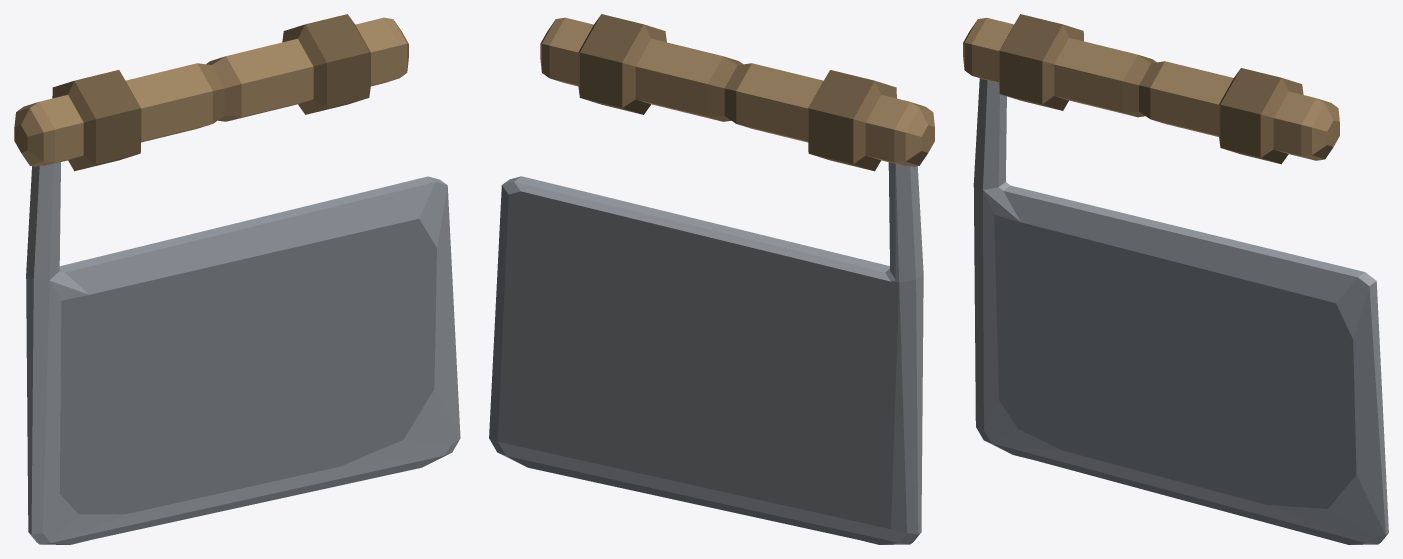
The model's file is WF_LP_HT_Props_Chopper.003.fbx.
3 views of the same model, side by side, from view 1: azimuth 30°, elevation 25°; view 2: azimuth 150°, elevation 25°; view 3: azimuth 330°, elevation 25° (orthographic). The views are drawn at different scales.
Visible parts, largest first — view 1: WF_LP_HT_Props_Chopper.003; view 2: WF_LP_HT_Props_Chopper.003; view 3: WF_LP_HT_Props_Chopper.003.
Boxes of the visible parts, x1=… form: WF_LP_HT_Props_Chopper.003: x1=14, y1=14, x2=460, y2=544; WF_LP_HT_Props_Chopper.003: x1=489, y1=14, x2=934, y2=544; WF_LP_HT_Props_Chopper.003: x1=963, y1=14, x2=1388, y2=544.
Size of the model in its own units: 0.2405 by 0.2468 by 0.0412.
